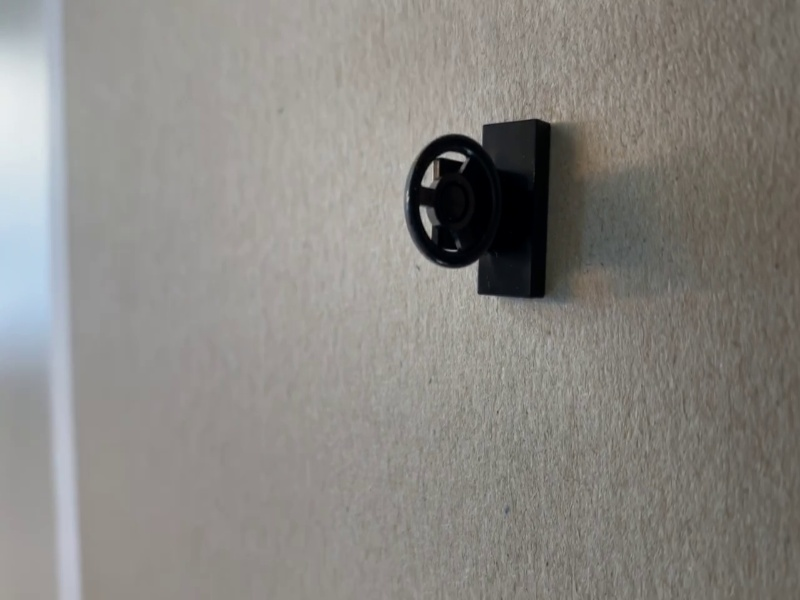steering wheel: (403, 118, 552, 302)
